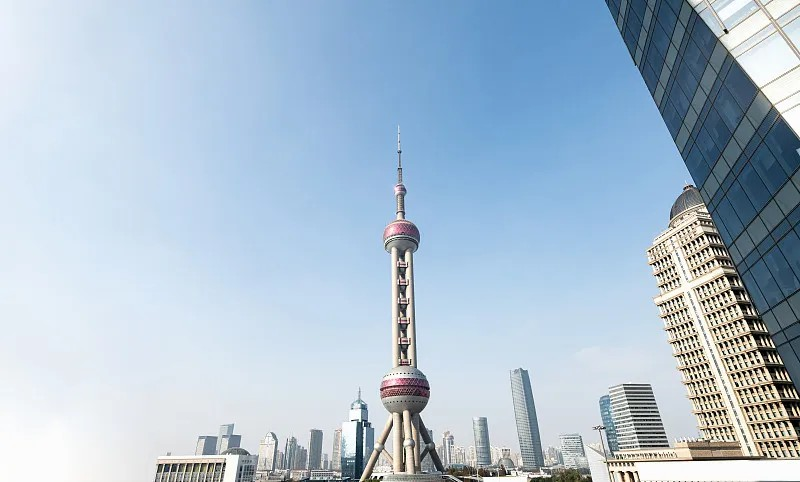Oriental: (359, 126, 444, 482)
